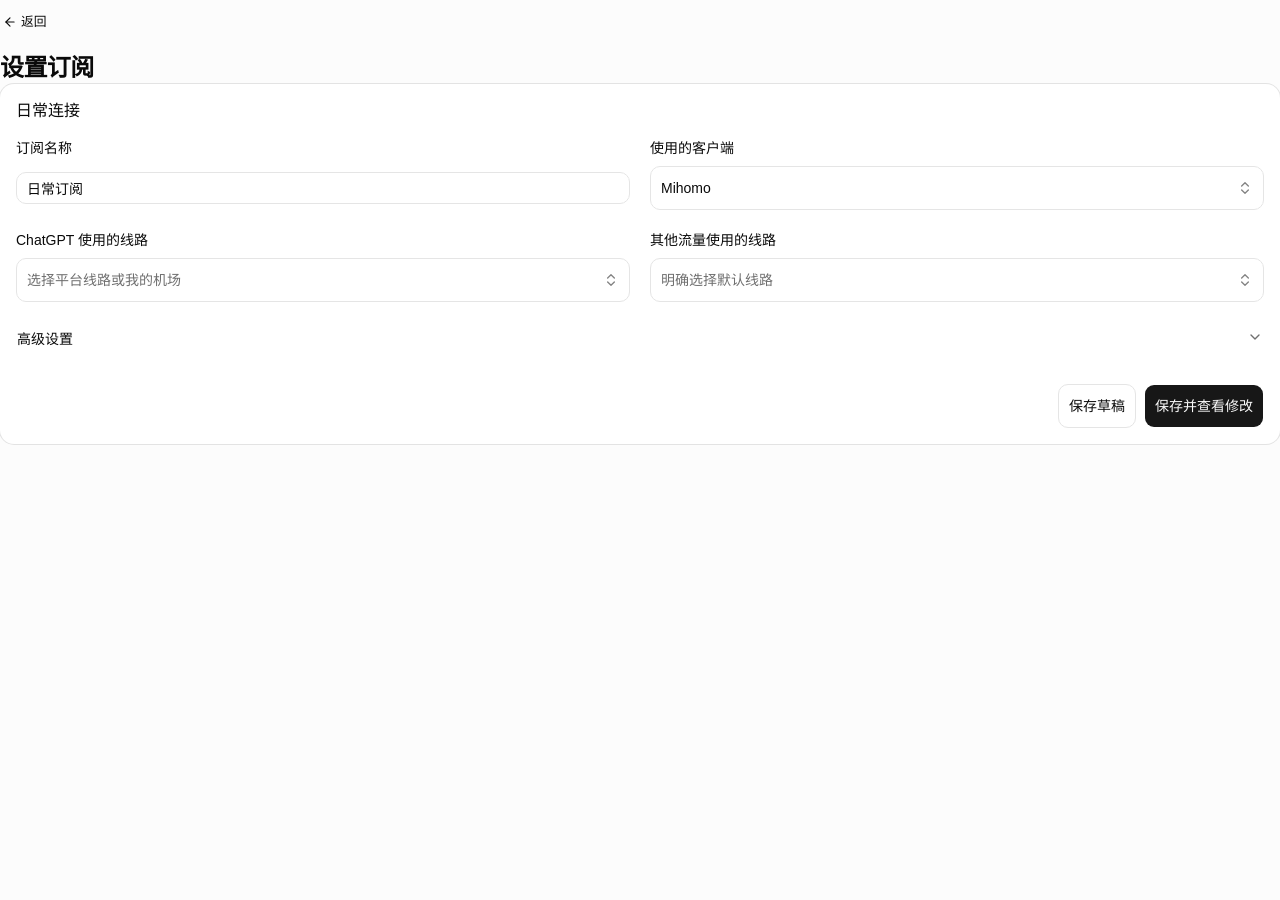
Test: does not require a private airport when a platform route is available
The image size is (1280, 900).
Click the dropdown named "ChatGPT 使用的线路". click: (104, 280)
box: [16,258,630,302]
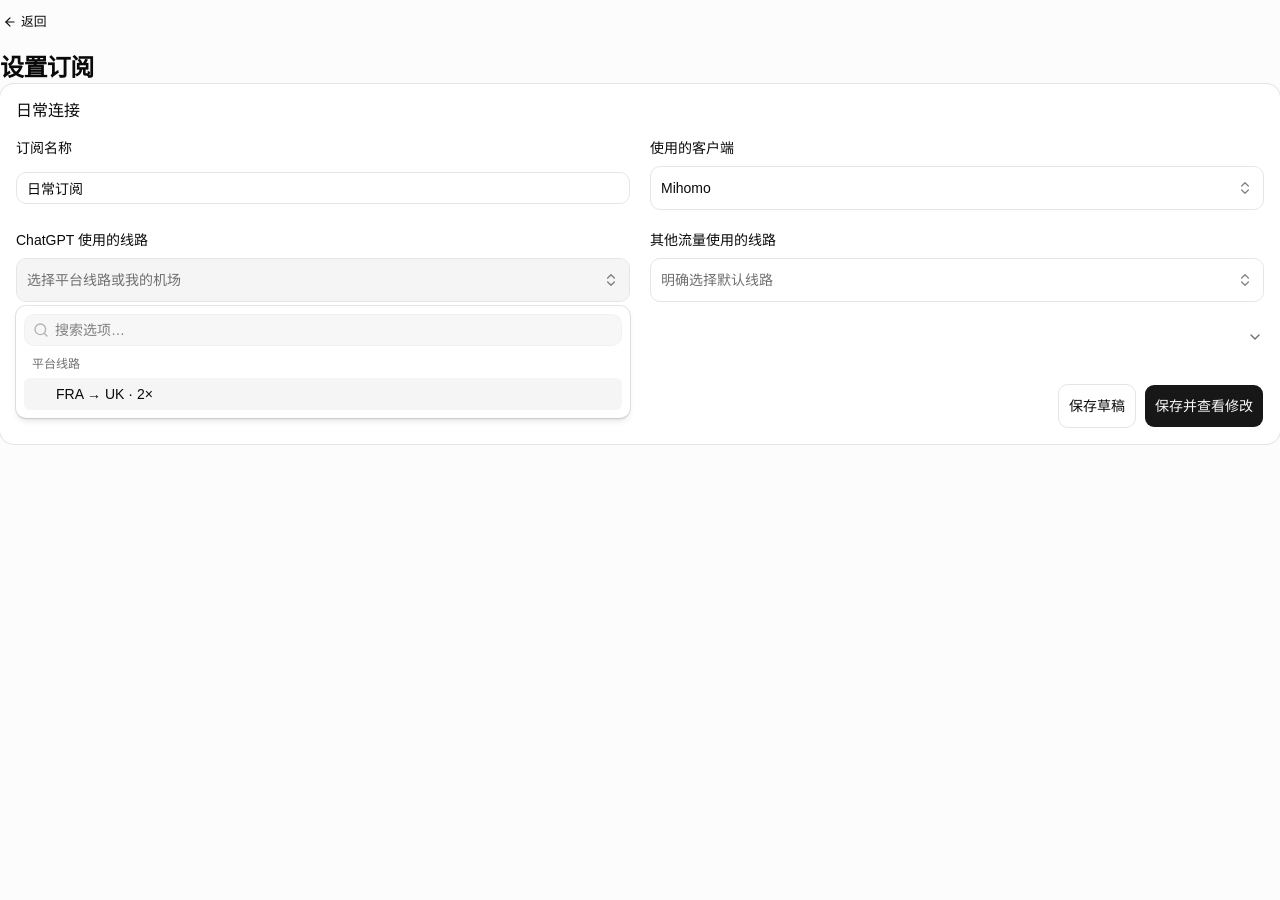
Click the option "FRA → UK · 2×". click: (104, 394)
box: [24,378,622,410]
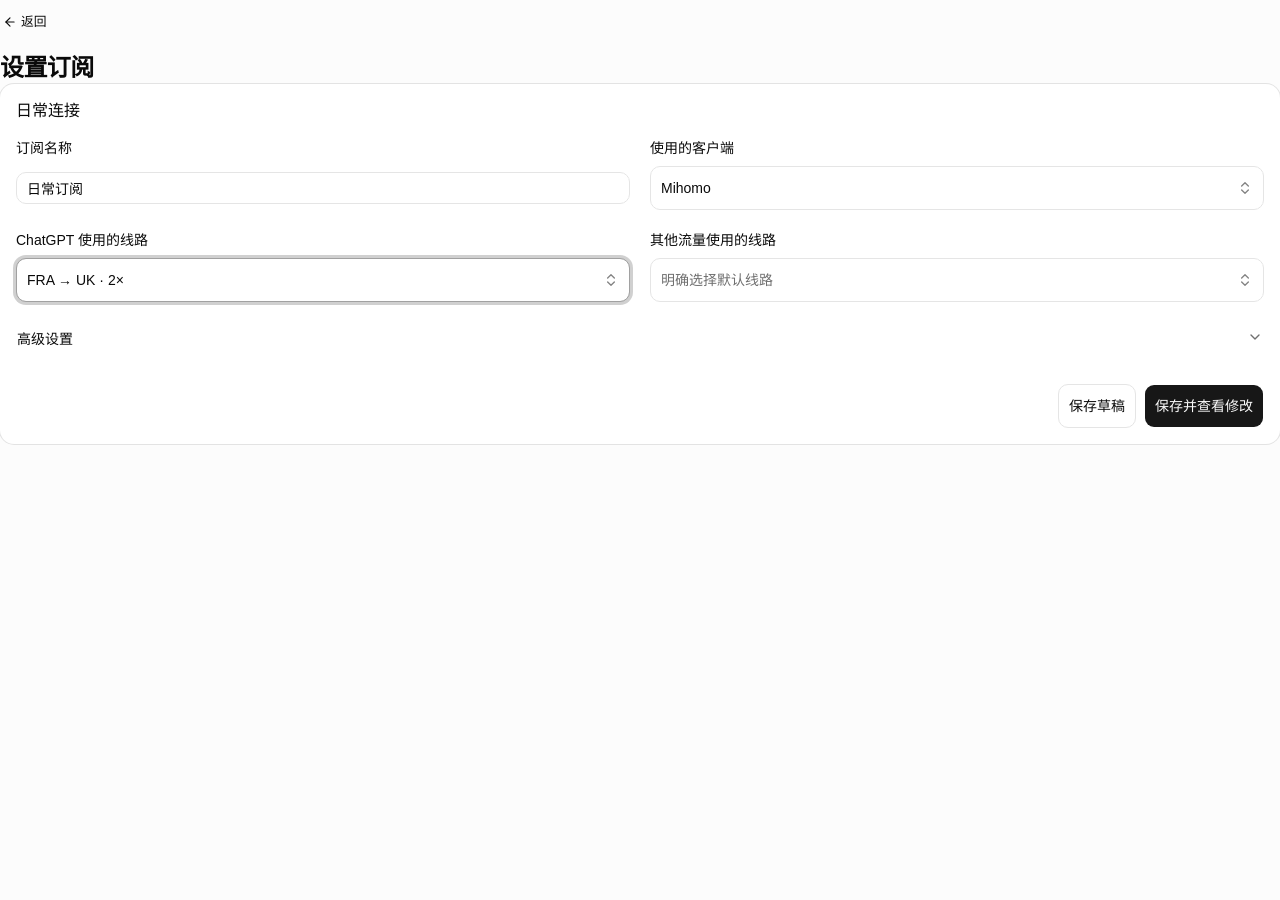
Click the dropdown named "其他流量使用的线路". click: (717, 280)
box: [650,258,1264,302]
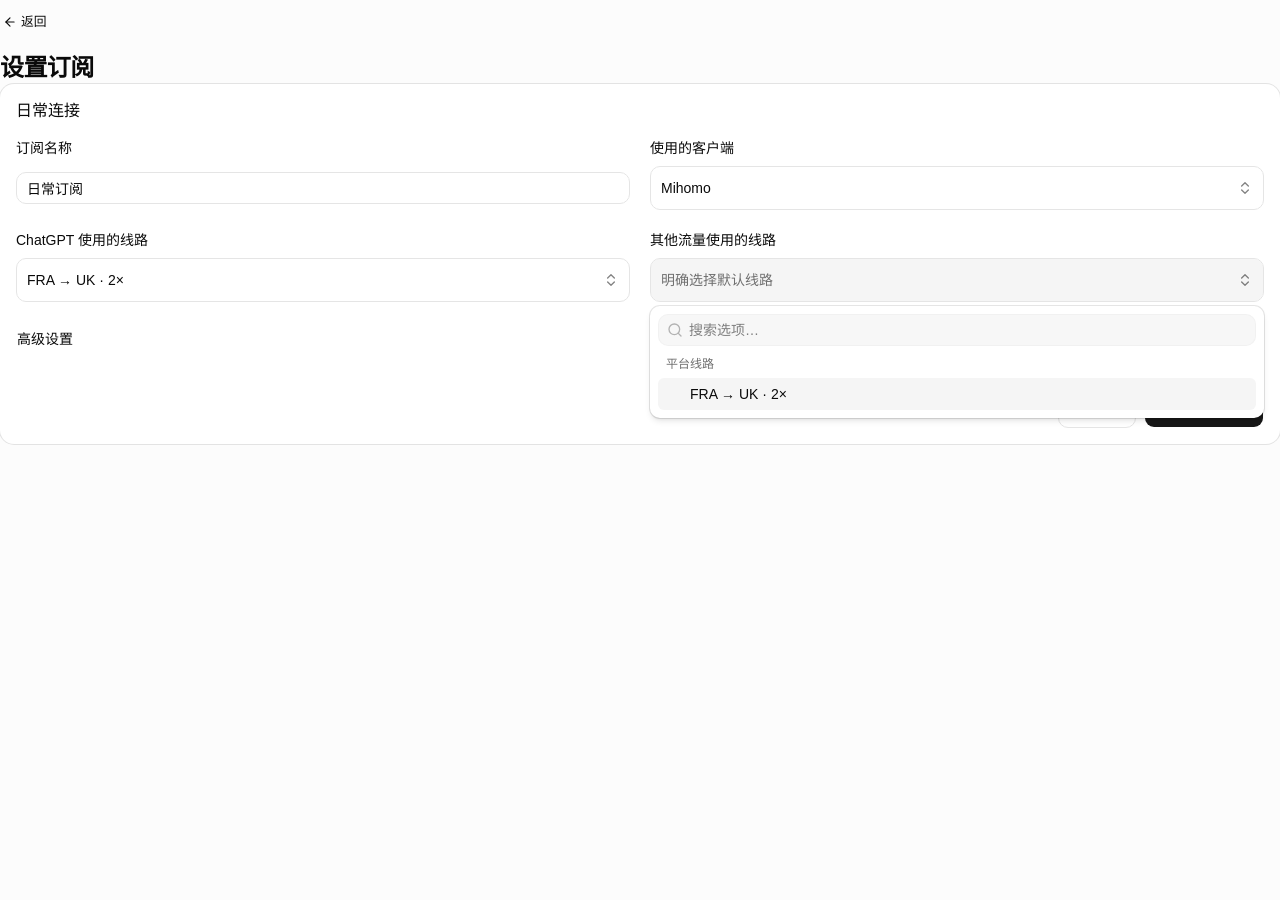
Click the option "FRA → UK · 2×". click: (738, 394)
box: [658,378,1256,410]
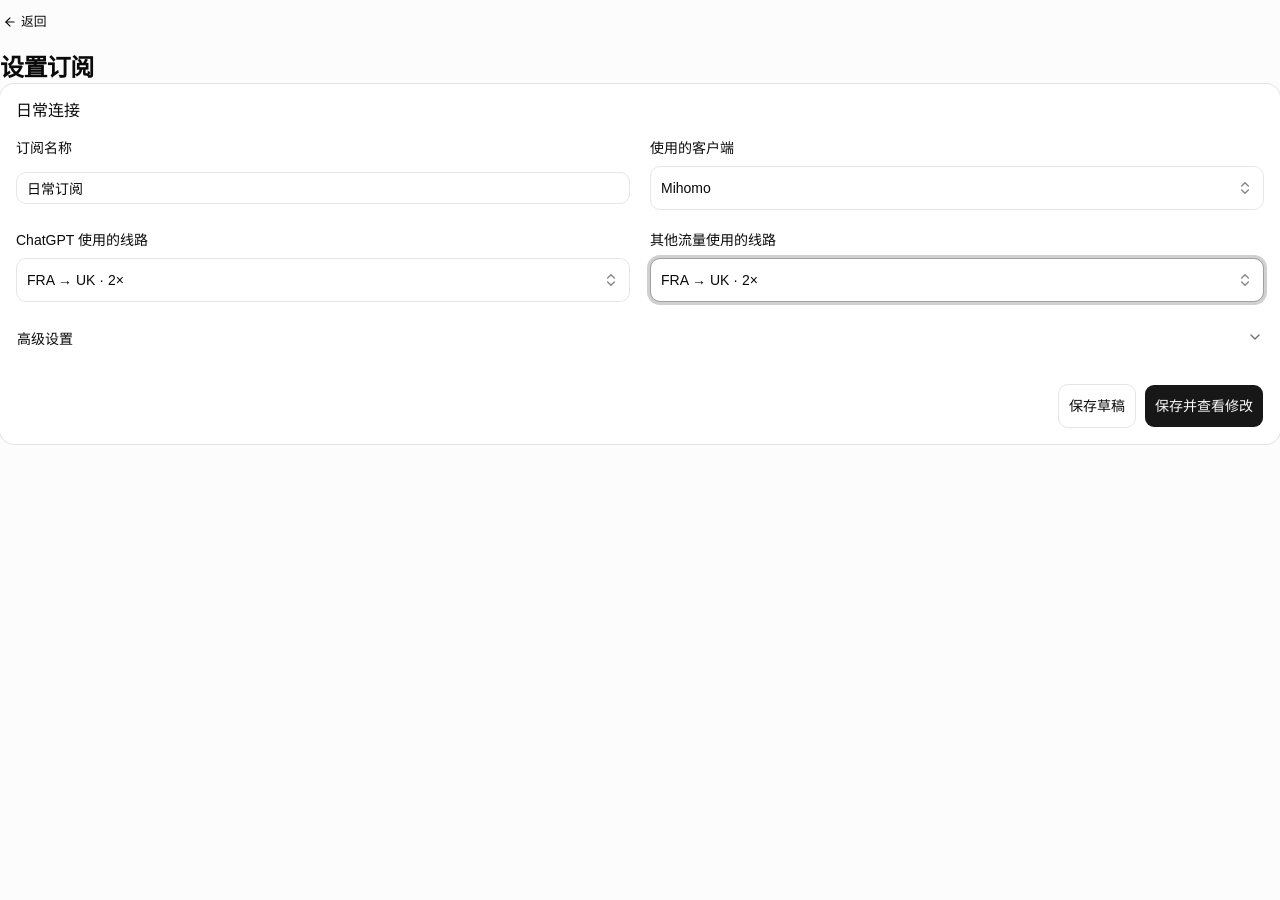
Click the button "保存并查看修改". click: (1204, 406)
box: [1144,384,1264,428]
(page scrolled)
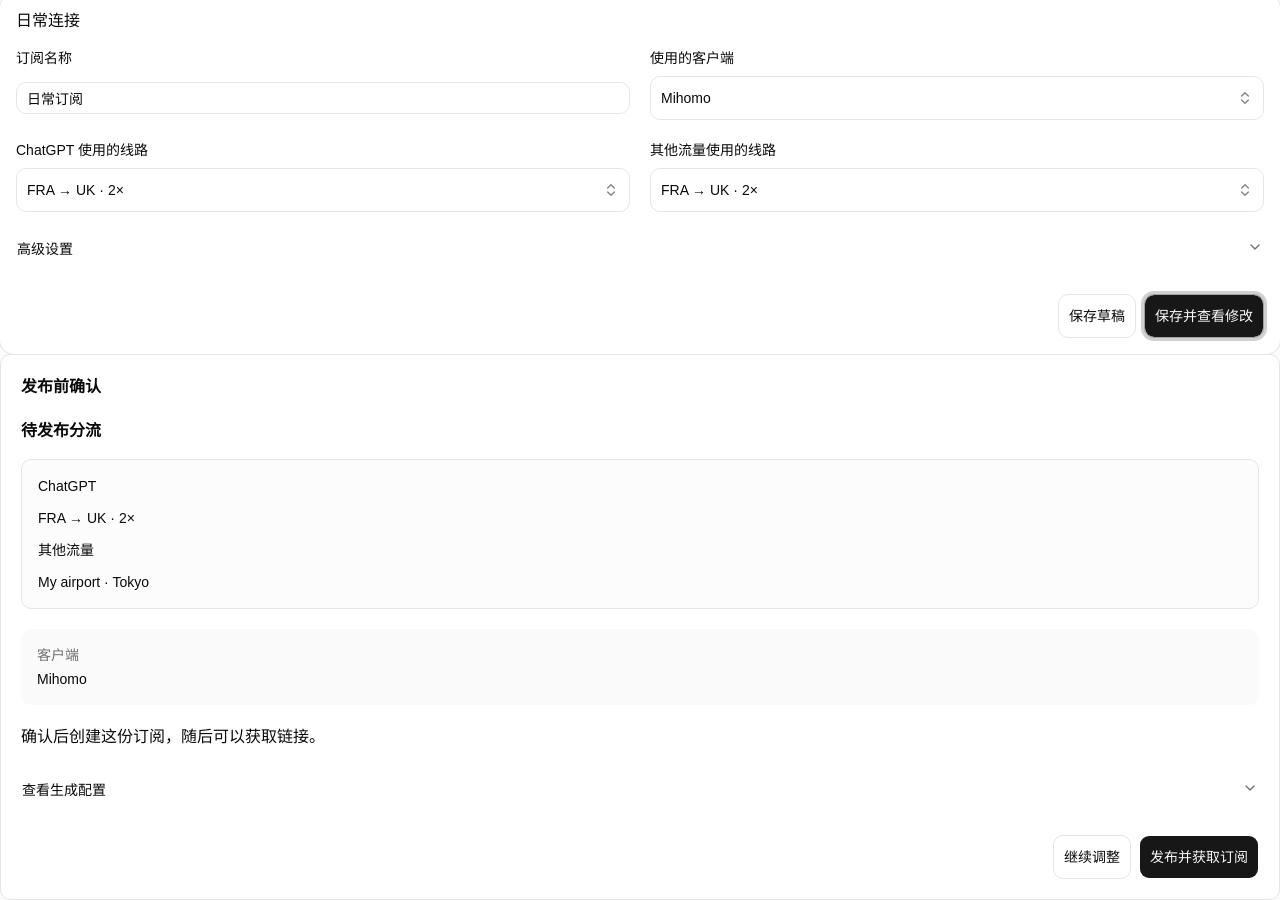
Expected: the element "发布前确认" is shown
